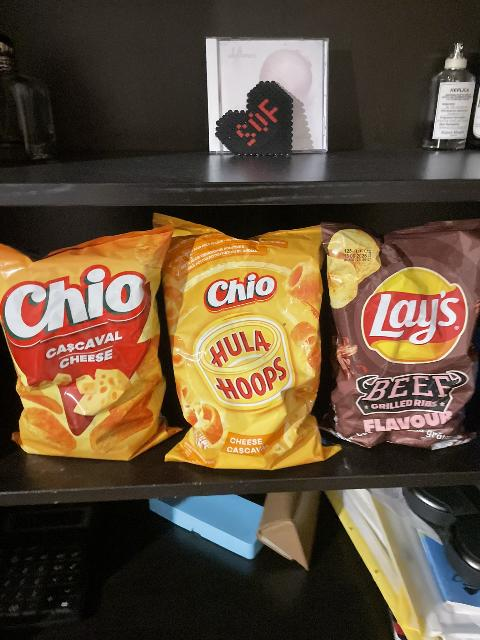Chio Cascaval 125g: (1, 225, 182, 458)
Chio Hula Hoops Cheese 70g: (156, 221, 328, 466)
Lays Beef Grilled Ribs 125g: (328, 224, 480, 444)
